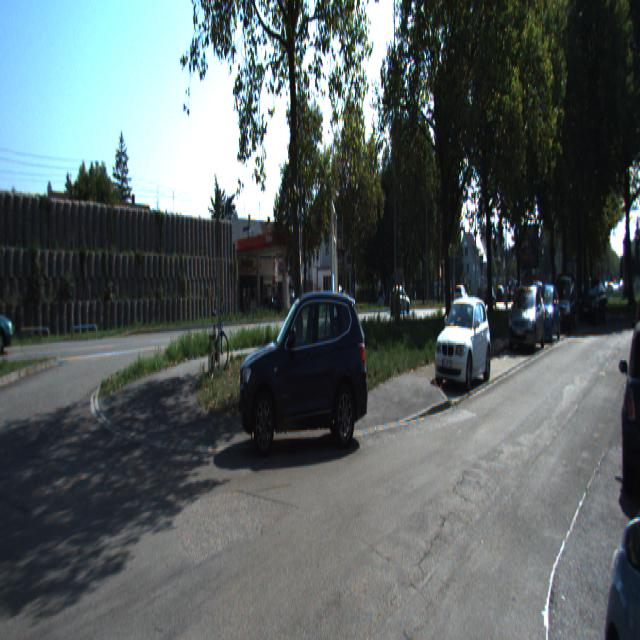Car: (233, 278, 373, 463), (603, 316, 639, 638), (432, 300, 494, 400), (621, 301, 639, 498), (507, 283, 547, 354), (0, 280, 15, 350)
